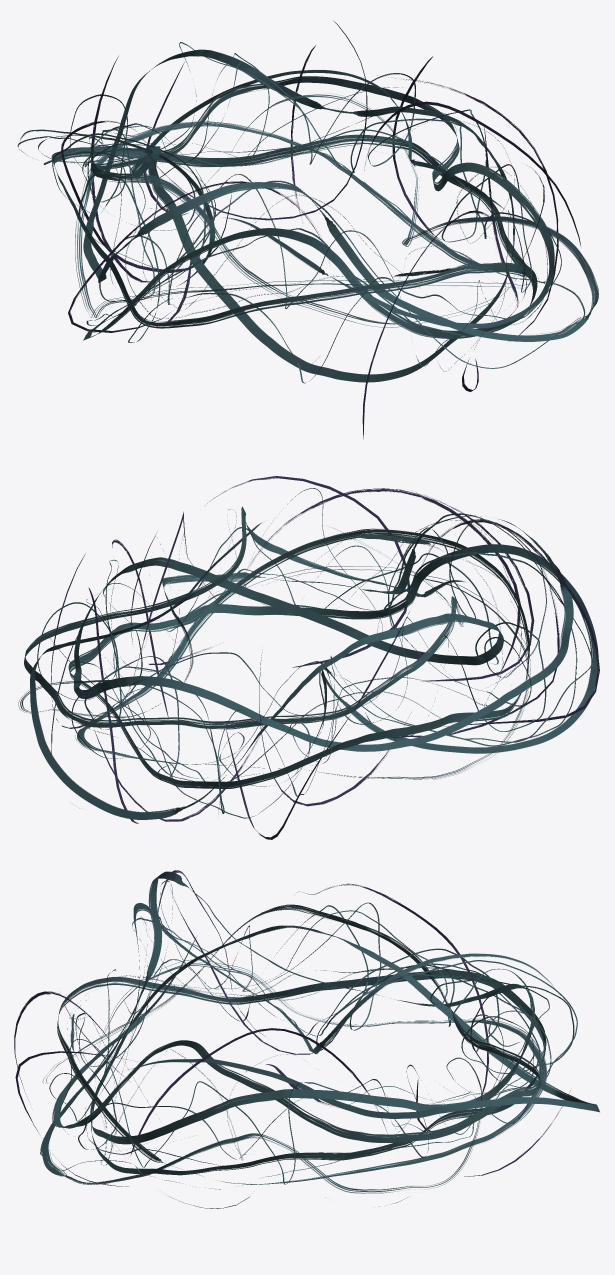
3 views of the same model, one above another, from view 1: azimuth 30°, elevation 25°; view 2: azimuth 150°, elevation 25°; view 3: azimuth 270°, elevation 25° (orthographic). The views are drawn at different scales.
Parts seen in each view (by area): view 1: brush_VelvetInk_g0_b0_0; view 2: brush_VelvetInk_g0_b0_0; view 3: brush_VelvetInk_g0_b0_0.
Part boxes in pixels (x1,y1,x2,y2): brush_VelvetInk_g0_b0_0: (17, 21, 598, 438); brush_VelvetInk_g0_b0_0: (18, 476, 599, 839); brush_VelvetInk_g0_b0_0: (14, 870, 599, 1208).
Bounding box in the file's own units: 9.78 × 5.14 × 11.11.
Materials: 1 (1 with a texture image).
